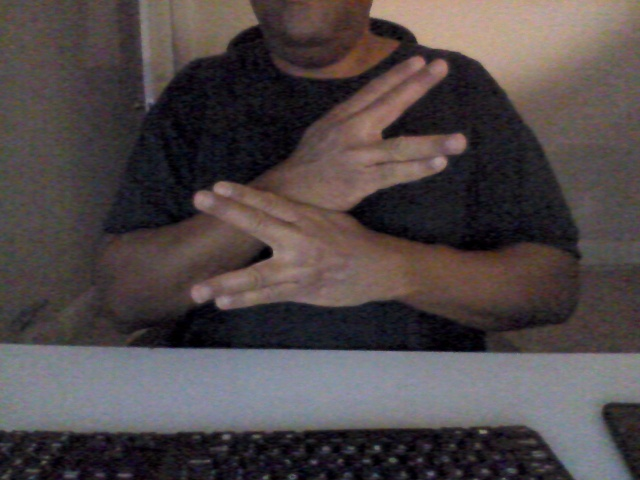world: (184, 43, 468, 322)
